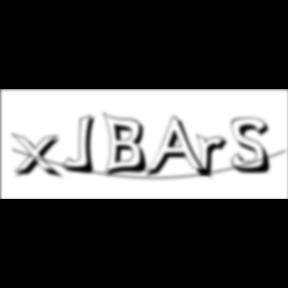A: (144, 116, 214, 182)
B: (103, 111, 153, 179)
J: (64, 114, 102, 176)
S: (231, 117, 277, 176)
r: (196, 134, 234, 180)
x: (12, 132, 66, 181)
